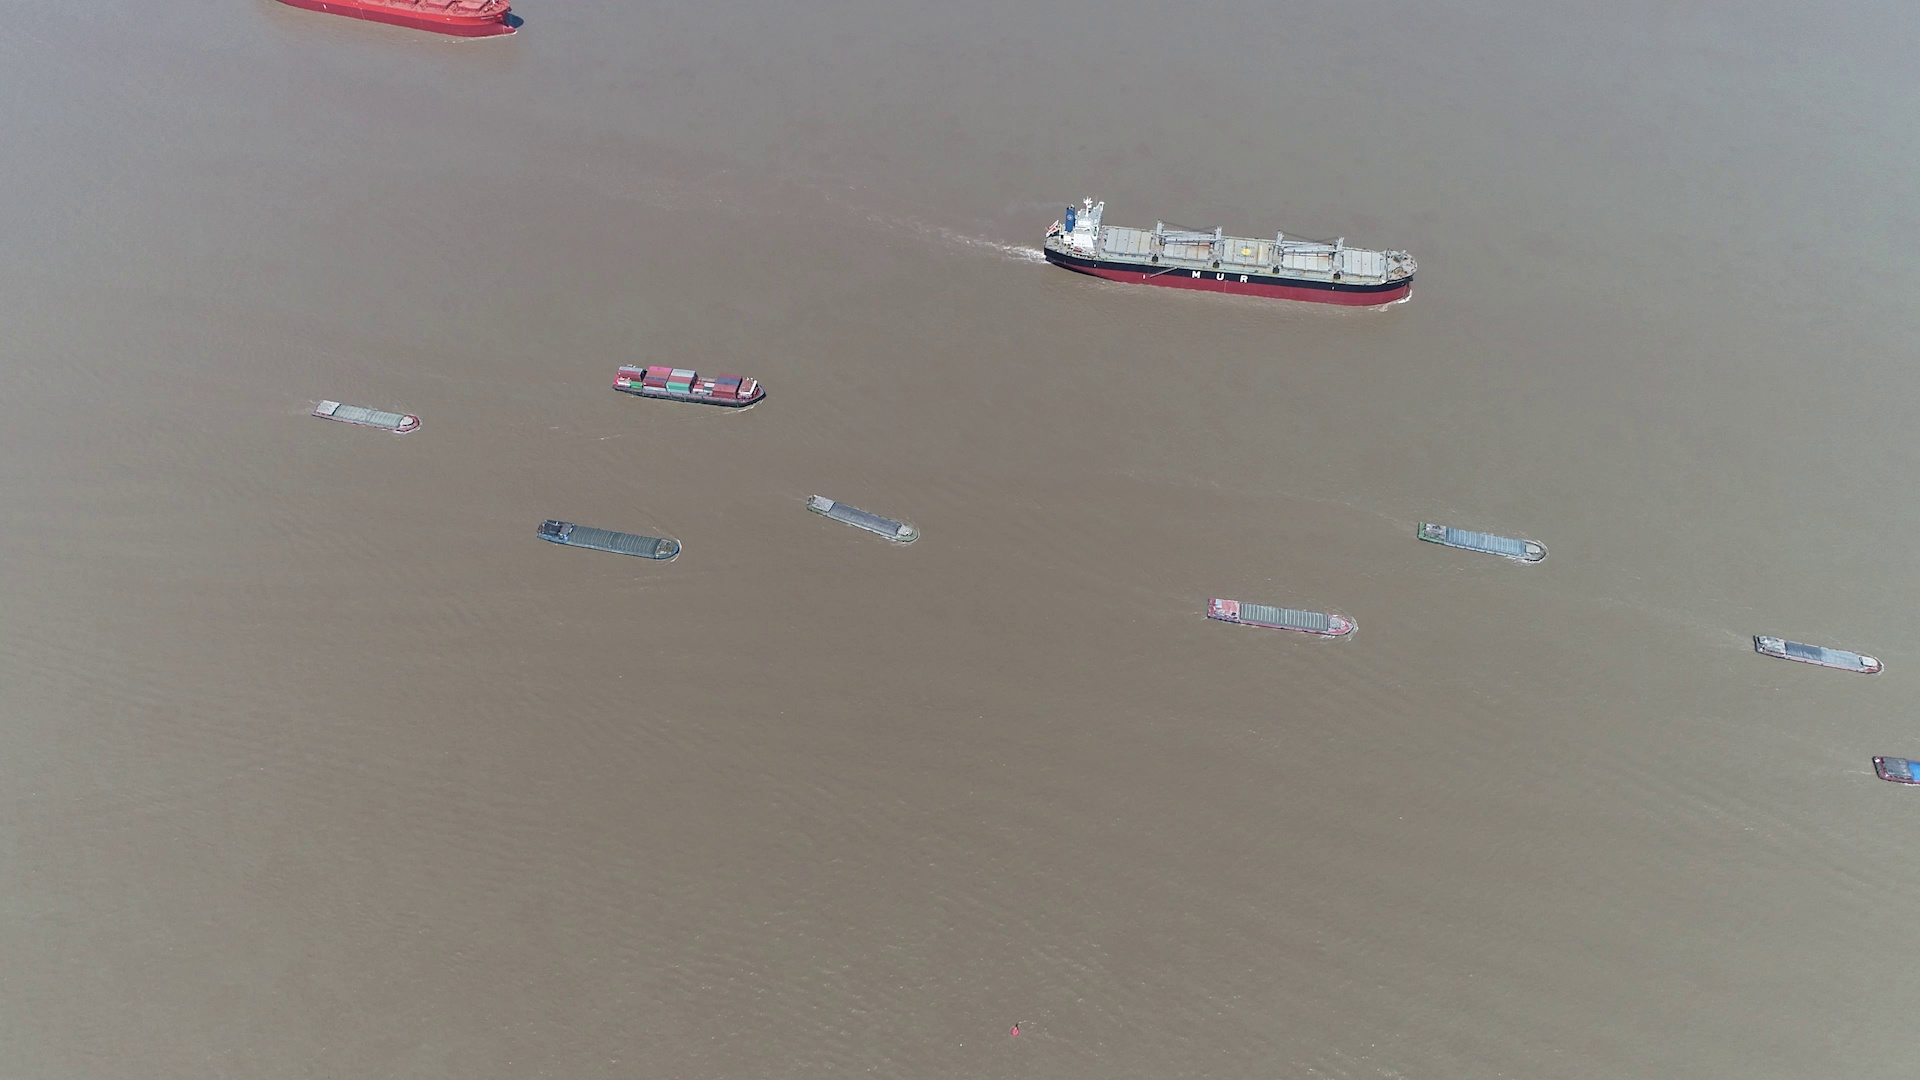ship: (1043, 198, 1416, 303), (274, 0, 522, 41), (611, 364, 765, 407), (534, 520, 682, 562), (1207, 597, 1356, 637), (1416, 521, 1547, 564), (1751, 634, 1887, 675), (808, 495, 919, 545), (310, 397, 421, 433), (1873, 757, 1920, 787)
